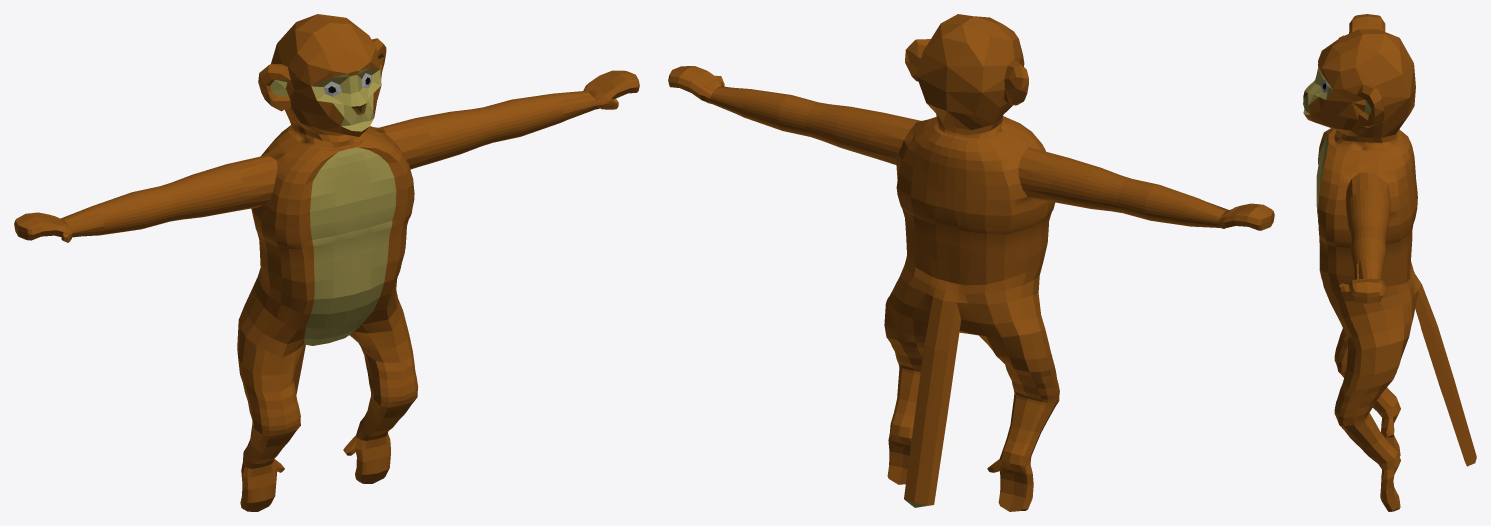
The model's file is Monkey_Fin.fbx.
3 renders of one model, left to right at view 1: azimuth 30°, elevation 25°; view 2: azimuth 150°, elevation 25°; view 3: azimuth 270°, elevation 25°, orthographic. The views are drawn at different scales.
Parts seen in each view (by area): view 1: Cube; view 2: Cube; view 3: Cube.
Part boxes in pixels (x1=…): Cube: x1=14, y1=14, x2=639, y2=511; Cube: x1=668, y1=14, x2=1274, y2=511; Cube: x1=1303, y1=14, x2=1476, y2=511.
Size of the model in its own units: 235 by 177 by 61.78.
